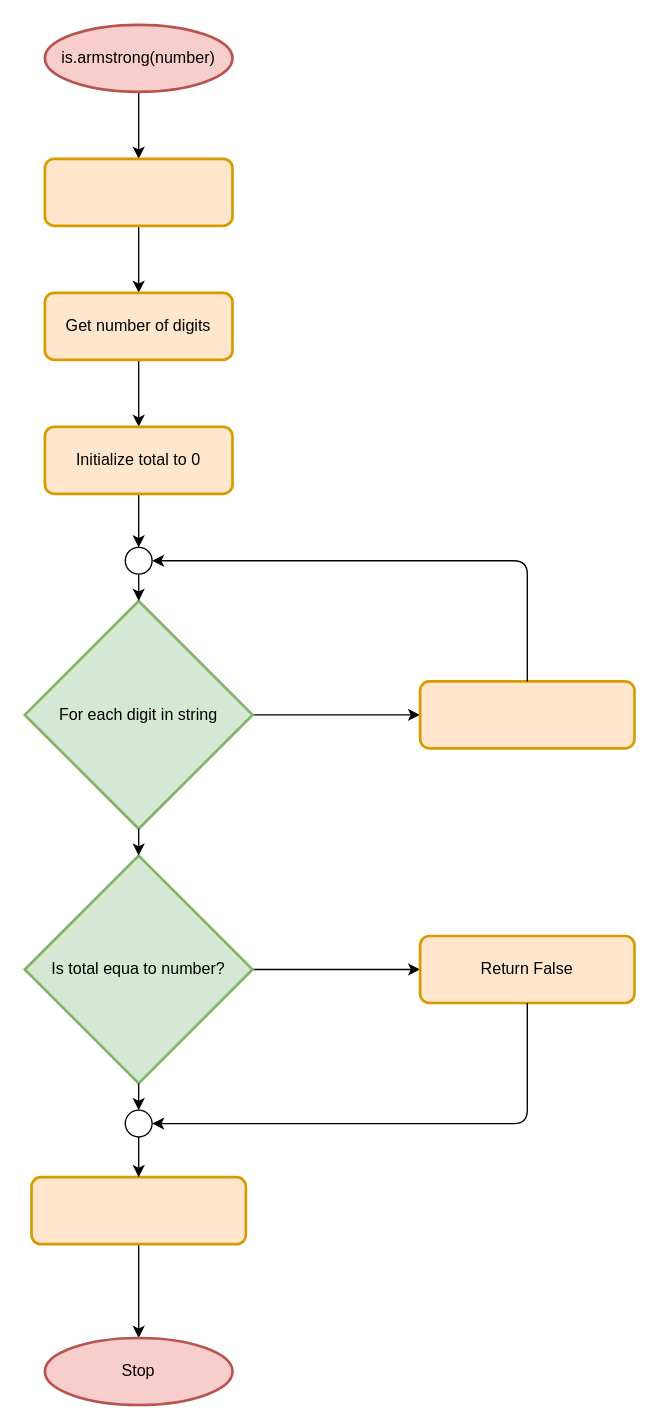
Some shapes in this 658 by 1428 pixel diagram are drawn without their labels. The shapes that lost their labels are listed below. From the top down, each one's centre as x and y in pixels, then its label:
At (x=138, y=191): "Convert number to string".
At (x=526, y=714): "Add digit num.digit to total".
At (x=138, y=1210): "Return True".
